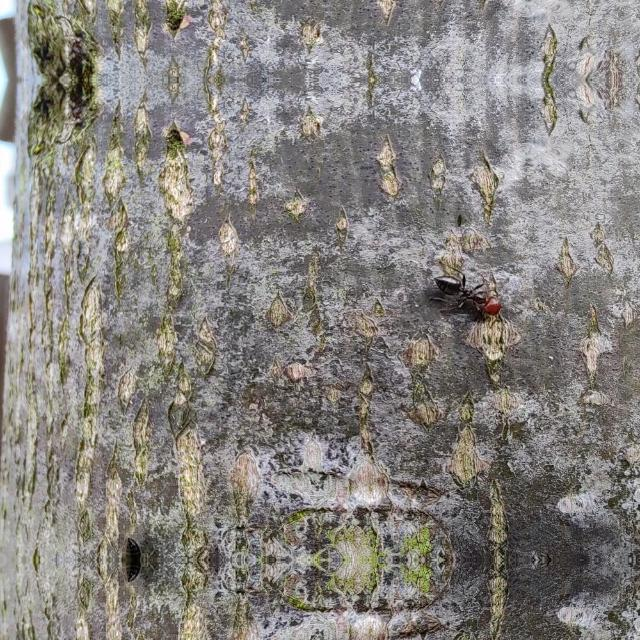Crematogaster: (428, 268, 509, 318)
